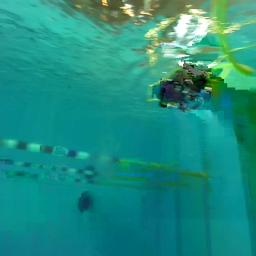Full: (146, 64, 224, 113)
